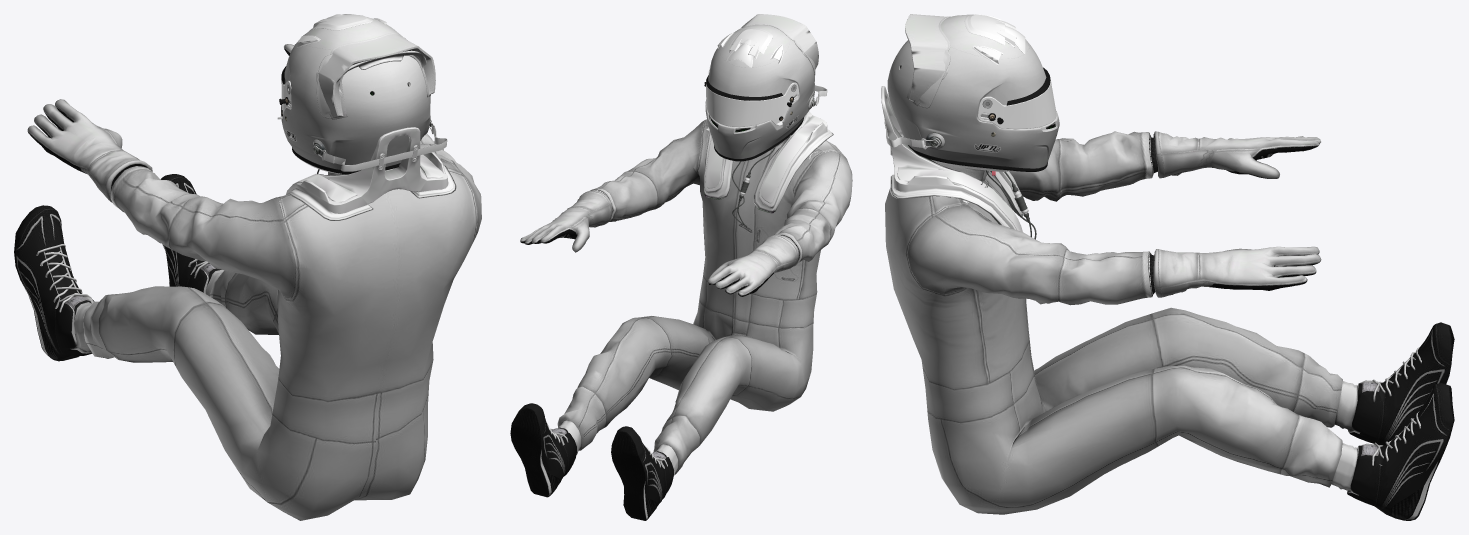
The model's file is driver.glb.
3 views of the same model, side by side, from view 1: azimuth 30°, elevation 25°; view 2: azimuth 150°, elevation 25°; view 3: azimuth 270°, elevation 25° (orthographic). The views are drawn at different scales.
Parts seen in each view (by area): view 1: driver; view 2: driver; view 3: driver.
Part boxes in pixels (<box>): driver: <box>14,14,481,520</box>; driver: <box>510,14,852,520</box>; driver: <box>881,14,1454,520</box>.
Bounding box in the file's own units: 0.6685 × 1.02 × 1.13.
Materials: 5 (3 with a texture image).
